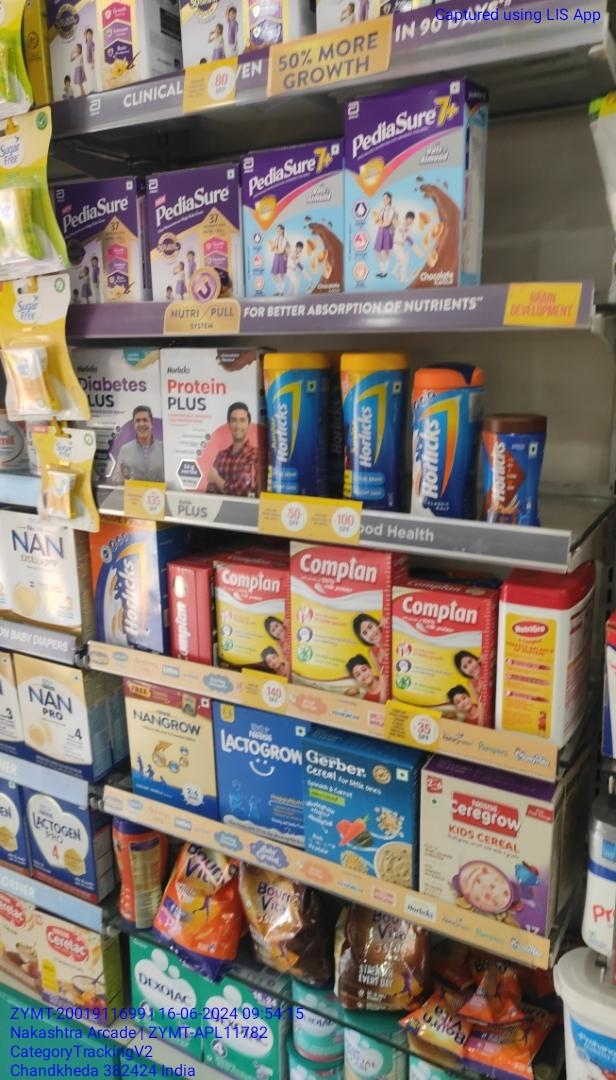COMPLAN_KESAR_BADAM_200_GMS_PACK: (390, 586, 493, 710)
